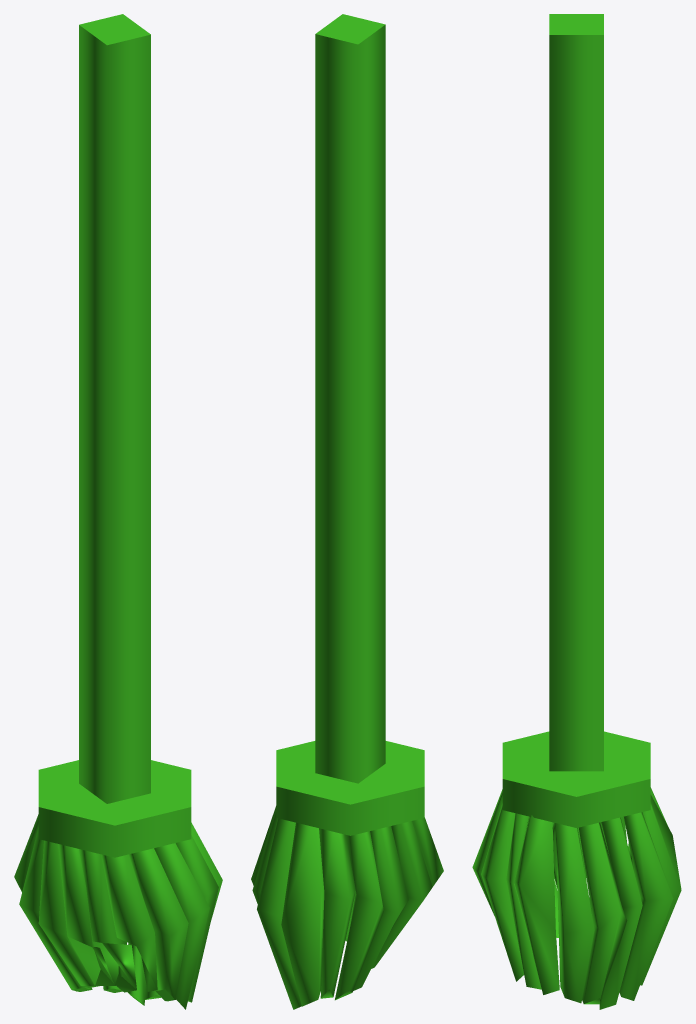
Rendered from felmoso_v02.FBX.
The picture shows the model from 3 angles, left to right: view 1: azimuth 30°, elevation 25°; view 2: azimuth 150°, elevation 25°; view 3: azimuth 270°, elevation 25°; orthographic projection. The views are drawn at different scales.
Parts seen in each view (by area): view 1: felmoso; view 2: felmoso; view 3: felmoso.
Boxes of the visible parts, x1,y1,x2,y2 form: felmoso: [14, 14, 222, 1009]; felmoso: [251, 14, 443, 1009]; felmoso: [472, 14, 681, 1009].
Bounding box in the file's own units: 57.09 × 317 × 62.23.
